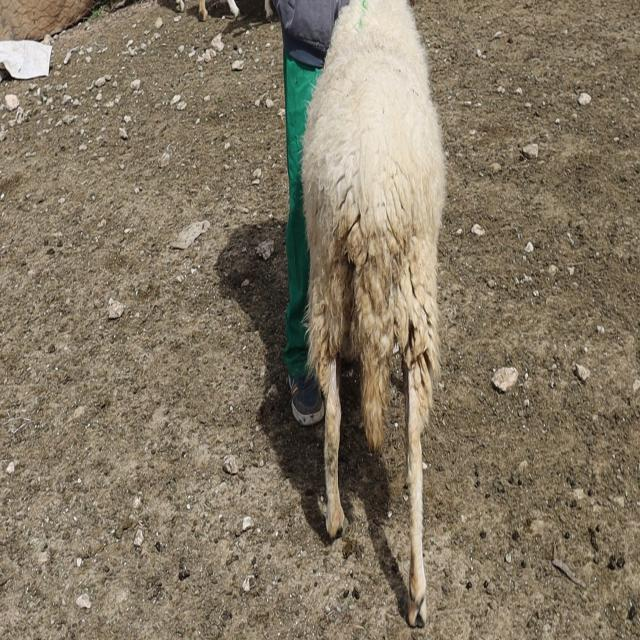Score_4: (302, 0, 446, 626)
